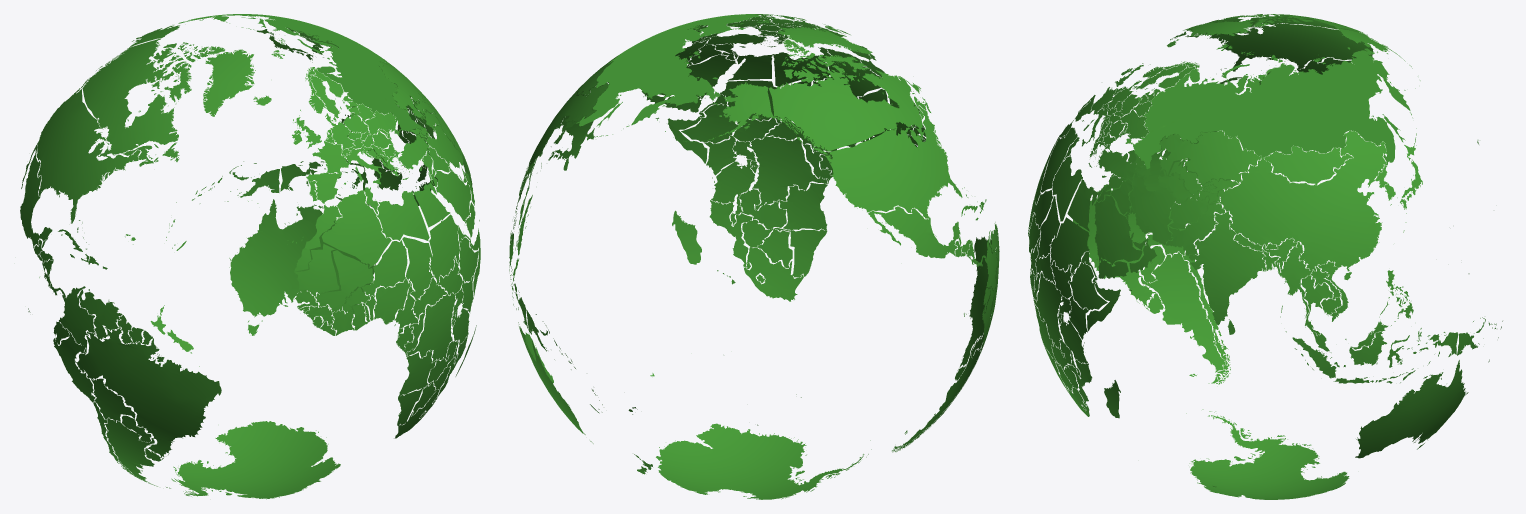
The model's file is mondo_exp_ottimizzato2.fbx.
3 views of the same model, side by side, from view 1: azimuth 30°, elevation 25°; view 2: azimuth 150°, elevation 25°; view 3: azimuth 270°, elevation 25° (orthographic).
Visible parts, largest first — view 1: BR, AQ, CA, AU, US, RU, DZ, GL, CD, LY, ML, AR (+24 smaller); view 2: US, CA, AQ, RU, CD, MX, ZA, AO, BR, CN, ET, TZ (+20 smaller); view 3: RU, CN, AQ, US, IN, AU, AR, KZ, BR, ID, SA, MN (+21 smaller).
Part boxes in pixels (<box>): BR: <box>75,327,221,459</box>; AQ: <box>171,421,340,499</box>; CA: <box>80,38,224,166</box>; AU: <box>229,199,375,335</box>; US: <box>36,25,179,223</box>; RU: <box>178,14,421,135</box>; DZ: <box>321,190,391,267</box>; GL: <box>203,49,255,116</box>; CD: <box>406,293,456,362</box>; LY: <box>377,191,429,240</box>; ML: <box>315,250,373,312</box>; AR: <box>104,418,157,486</box>; US: <box>665,82,962,284</box>; CA: <box>769,39,930,154</box>; AQ: <box>656,423,871,499</box>; RU: <box>576,14,778,137</box>; CD: <box>749,136,827,209</box>; MX: <box>868,206,960,258</box>; ZA: <box>744,247,803,301</box>; AO: <box>779,178,828,230</box>; BR: <box>957,236,999,370</box>; CN: <box>526,58,614,168</box>; ET: <box>681,103,737,143</box>; TZ: <box>711,160,754,203</box>; RU: <box>1125,47,1416,169</box>; CN: <box>1217,130,1386,280</box>; AQ: <box>1186,409,1349,499</box>; US: <box>1203,23,1478,144</box>; IN: <box>1188,211,1297,332</box>; AU: <box>1355,360,1465,458</box>; AR: <box>1141,252,1224,383</box>; KZ: <box>1159,130,1262,185</box>; BR: <box>1073,151,1198,310</box>; ID: <box>1292,328,1458,383</box>; SA: <box>1094,195,1142,264</box>; MN: <box>1264,145,1352,184</box>.
Size of the model in its own units: 99.79 by 99.79 by 99.65.
